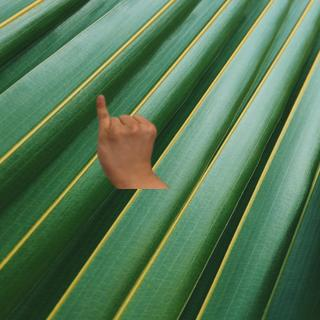FINE: (92, 91, 159, 178)
